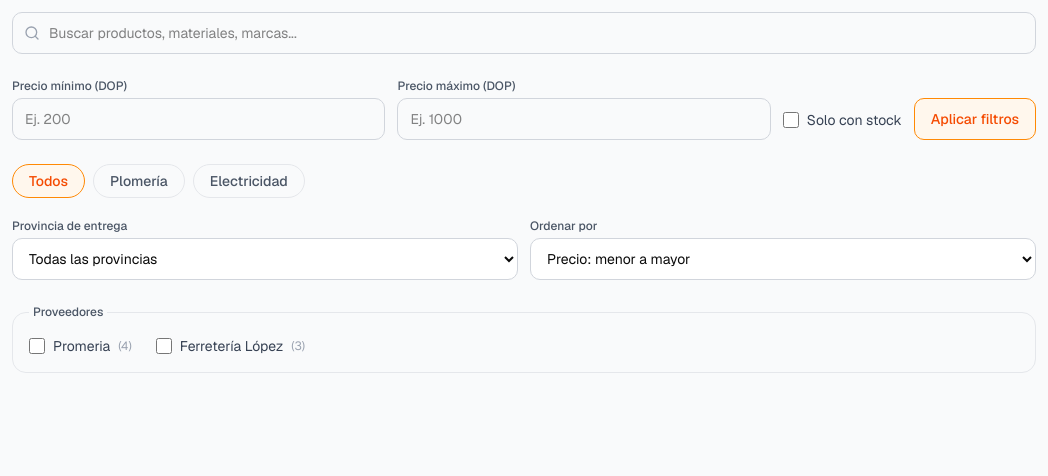
Test case: CatalogoFiltros — validación de precios › no aplica filtros y muestra un error si el precio mínimo supera el máximo
In the number field labelled "Precio mínimo (DOP)": (199, 119) x1=12 y1=98 x2=385 y2=140, type "300"
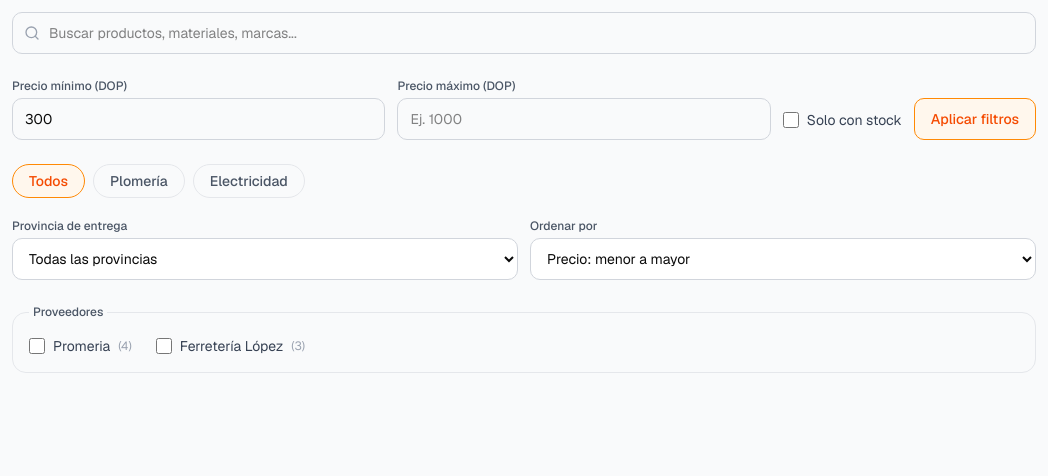
In the number field labelled "Precio máximo (DOP)": (584, 119) x1=397 y1=98 x2=771 y2=140, type "200"
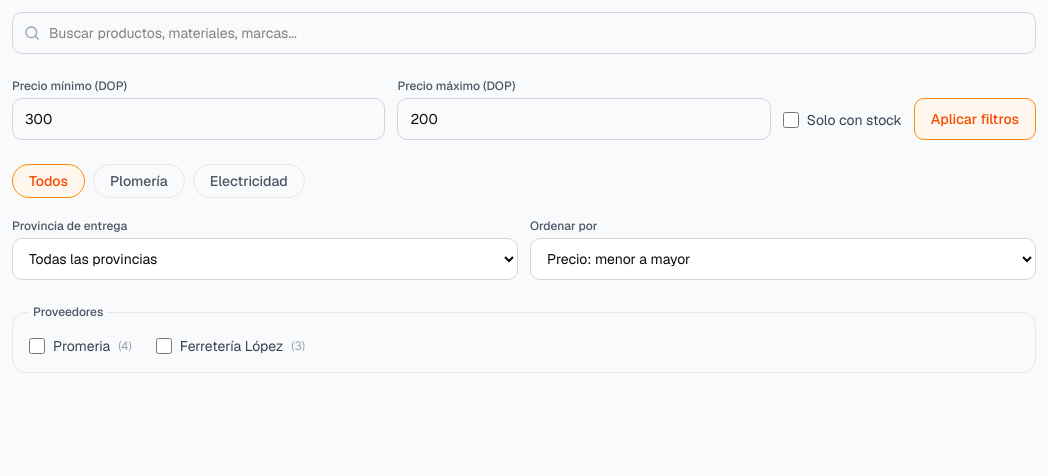
Click the button "Aplicar filtros": (975, 119) x1=914 y1=98 x2=1036 y2=140
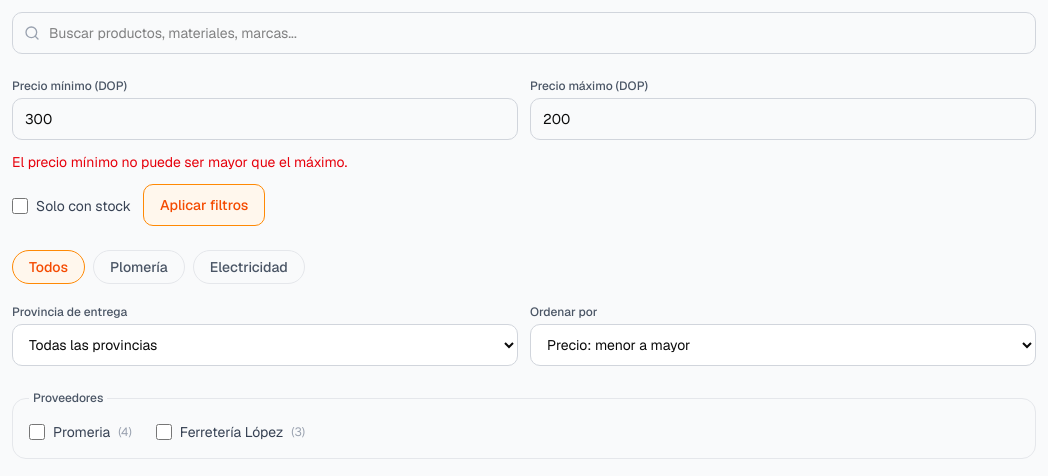
Expected: the message reads "El precio mínimo no puede ser mayor que el máximo.", x1=12 y1=153 x2=347 y2=171
